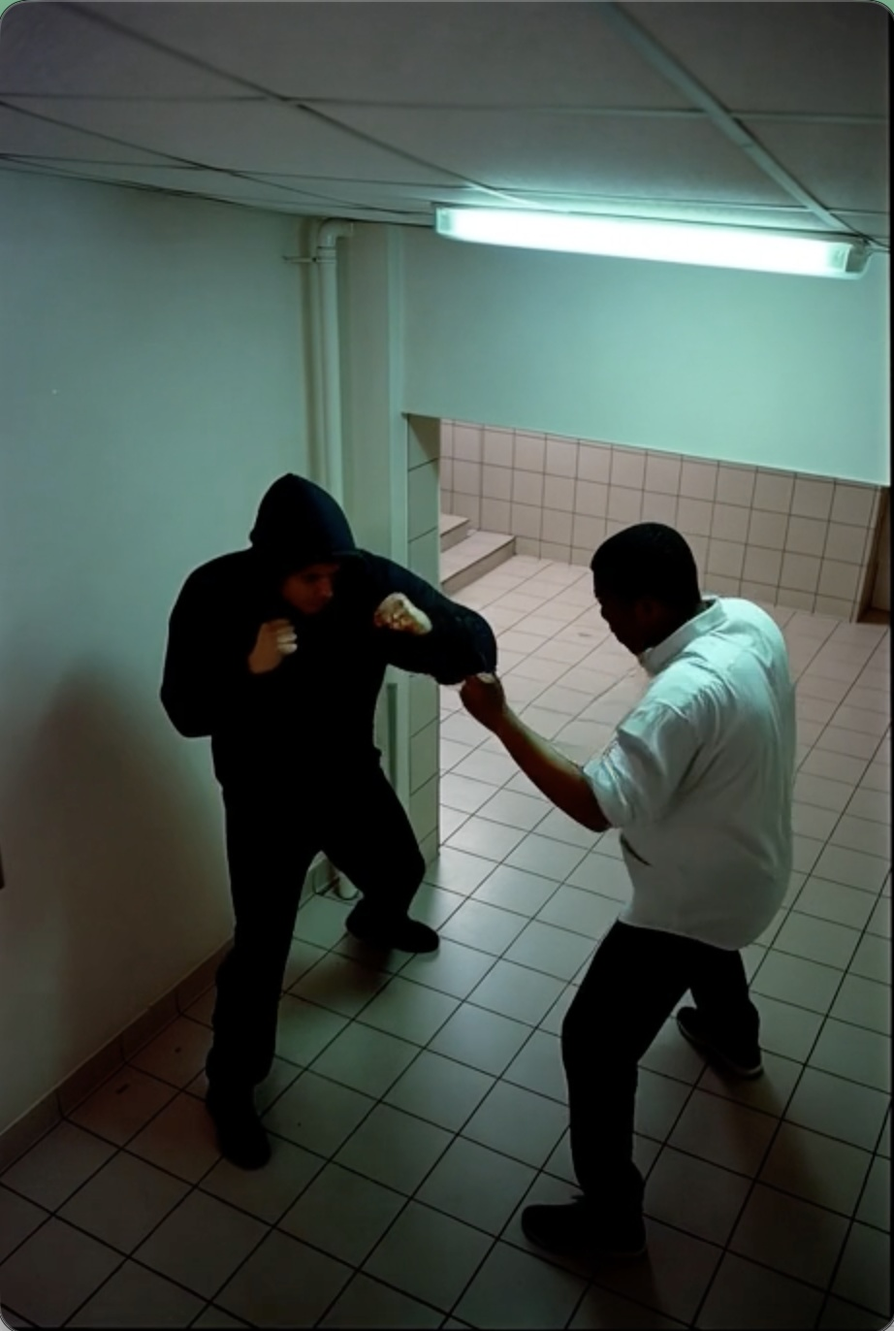Assault: (458, 520, 796, 1262)
Fighting: (158, 472, 495, 1172)
